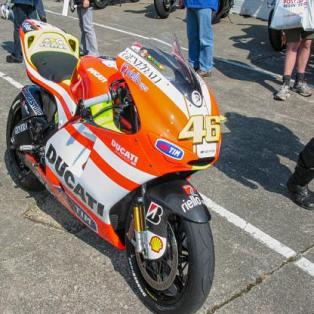Motocicleta: (2, 6, 226, 313)
